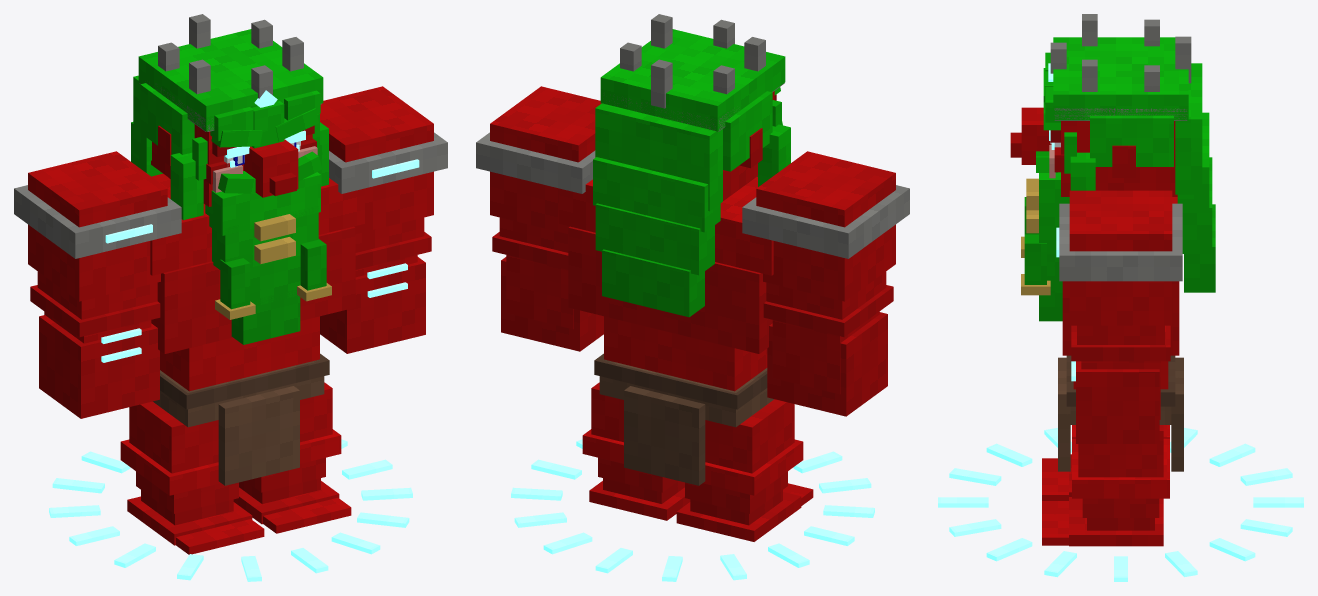
File: dwarf_s1_evo3.glb
The picture shows the model from 3 angles, left to right: view 1: azimuth 30°, elevation 25°; view 2: azimuth 150°, elevation 25°; view 3: azimuth 270°, elevation 25°; orthographic projection.
Parts seen in each view (by area): view 1: Head, ArmR, Torso, ArmL, LegR, LegL, Root; view 2: Head, Torso, ArmR, ArmL, LegR, Root, LegL; view 3: Head, ArmL, LegL, Root, Torso, LegR.
Part boxes in pixels (x1,y1,x2,y2): Head: (131, 14, 331, 344); ArmR: (14, 151, 181, 418); Torso: (150, 173, 364, 485); ArmL: (320, 86, 447, 353); LegR: (120, 401, 264, 554); LegL: (233, 382, 351, 533); Root: (49, 439, 412, 581); Head: (593, 14, 790, 317); Torso: (559, 176, 773, 485); ArmR: (742, 151, 909, 416); ArmL: (476, 86, 603, 351); LegR: (676, 399, 813, 541); Root: (511, 439, 874, 581); LegL: (582, 382, 690, 520); Head: (1010, 14, 1215, 321); ArmL: (1056, 190, 1182, 443); LegL: (1042, 425, 1169, 546); Root: (938, 428, 1303, 581); Torso: (1058, 197, 1183, 471); LegR: (1042, 425, 1169, 500).
Size of the model in its own units: 1.37 by 1.63 by 1.16.
26 materials, 26 textured.
